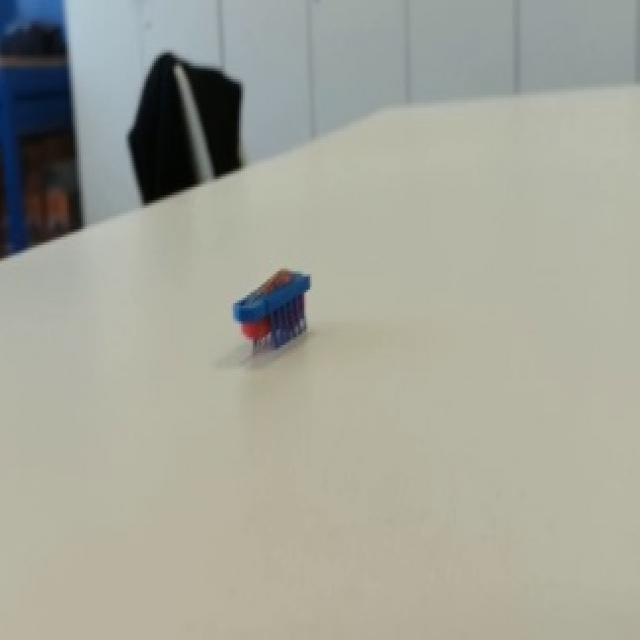1_NanoBug_Azul: (214, 262, 337, 376)
